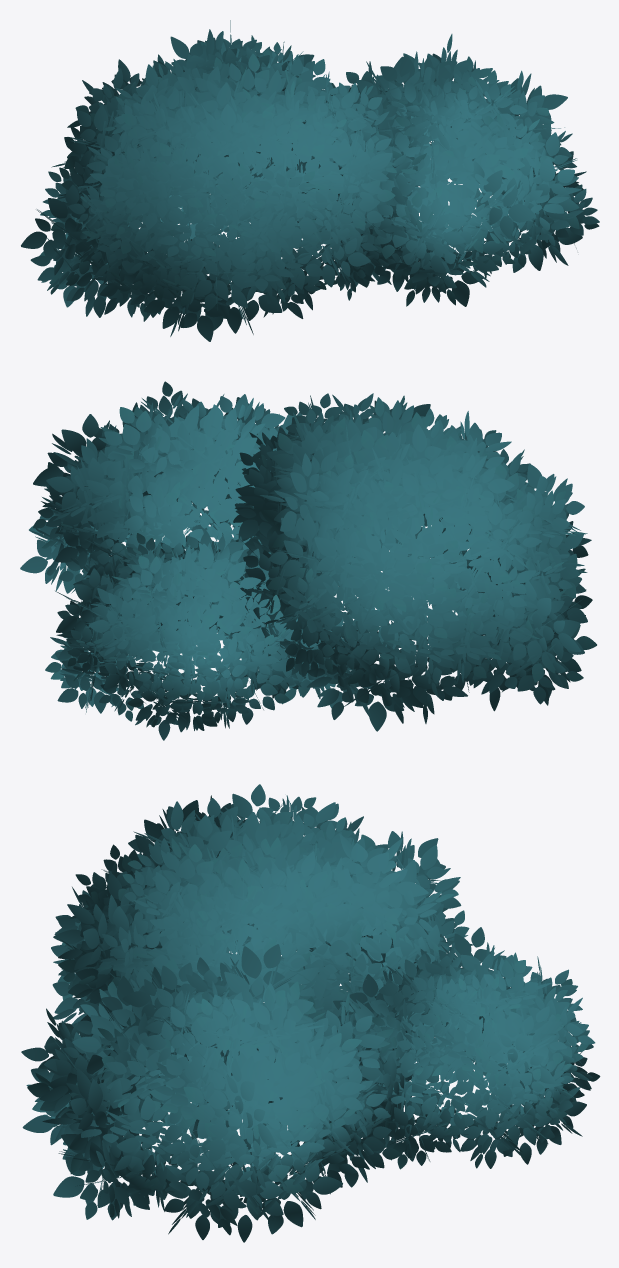
The picture shows the model from 3 angles, top to bottom: view 1: azimuth 30°, elevation 25°; view 2: azimuth 150°, elevation 25°; view 3: azimuth 270°, elevation 25°; orthographic projection. The views are drawn at different scales.
Parts seen in each view (by area): view 1: submesh_0; view 2: submesh_0; view 3: submesh_0.
Boxes of the visible parts, box(x1,y1,x2,y2) form: submesh_0: box(21, 20, 599, 341); submesh_0: box(20, 381, 596, 740); submesh_0: box(21, 784, 600, 1242).
Size of the model in its own units: 3.46 by 1.44 by 2.83.
1 material, 1 textured.
